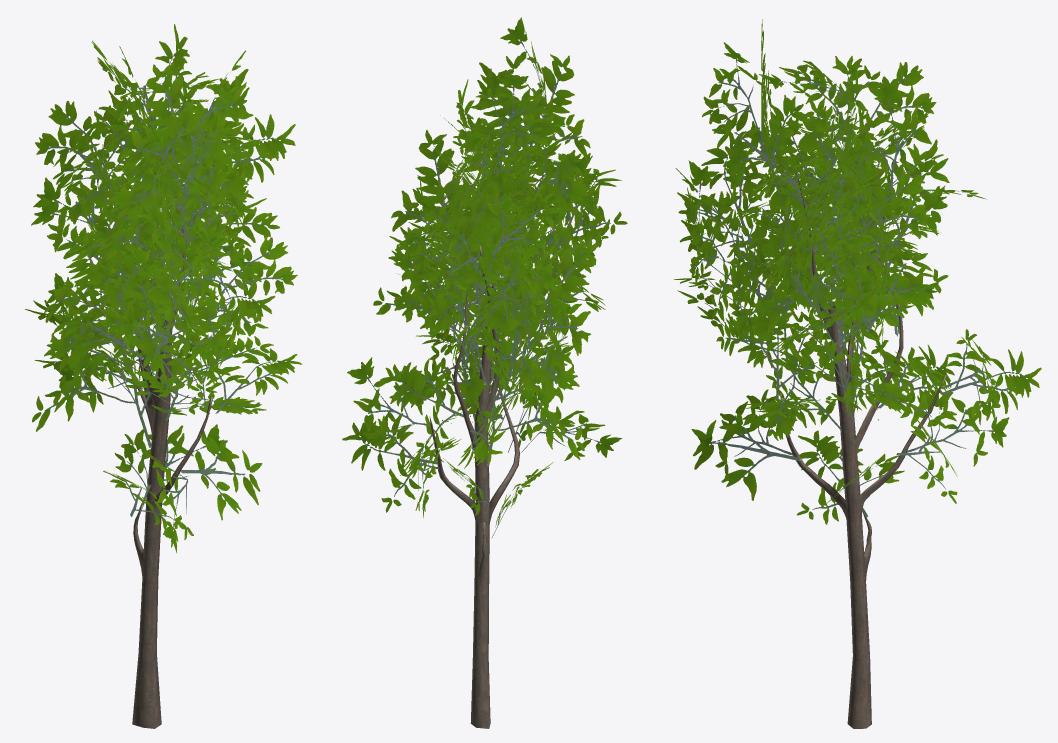
The picture shows the model from 3 angles, left to right: view 1: azimuth 30°, elevation 25°; view 2: azimuth 150°, elevation 25°; view 3: azimuth 270°, elevation 25°; orthographic projection. The views are drawn at different scales.
Parts seen in each view (by area): view 1: SM_Ash_Sapling_02_LOD0; view 2: SM_Ash_Sapling_02_LOD0; view 3: SM_Ash_Sapling_02_LOD0.
Part boxes in pixels (x1,y1,x2,y2): SM_Ash_Sapling_02_LOD0: (25, 24, 302, 728); SM_Ash_Sapling_02_LOD0: (342, 17, 627, 728); SM_Ash_Sapling_02_LOD0: (674, 19, 1041, 728).
Bounding box in the file's own units: 0.8373 × 2.44 × 1.2.
Materials: 2 (2 with a texture image).
